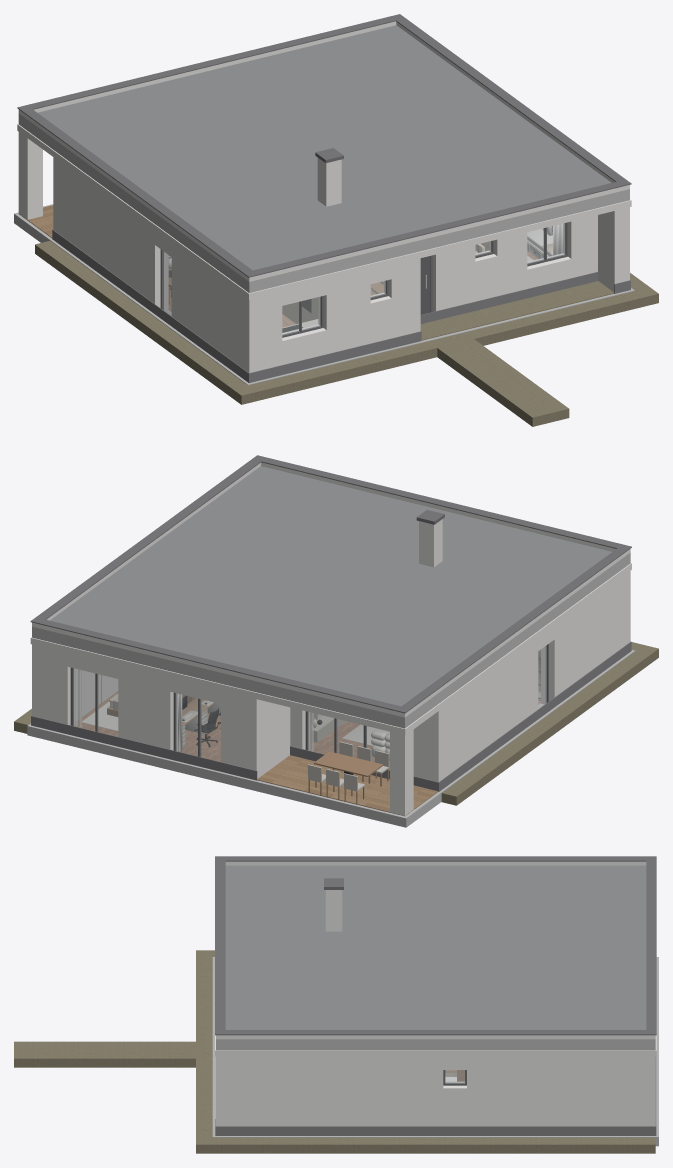
Rendered from bungalov.glb.
The picture shows the model from 3 angles, top to bottom: view 1: azimuth 30°, elevation 25°; view 2: azimuth 150°, elevation 25°; view 3: azimuth 270°, elevation 25°; orthographic projection. The views are drawn at different scales.
Visible parts, largest first — view 1: Roof membrane, Ext W1 end, Roof slab, Path S, Ext W1 0, Path W, Walkway, Ext S1 1, Floor 0.01 Vstup, Ext S1 0, Fascia S, Parapet S coping (+28 smaller); view 2: Roof membrane, Roof slab, Ext W1 end, Foundation slab, Ext W1 0, Path W, Ext N2 1, Floor 0.02 Terasa, Ext N2 0, Fascia N, Parapet N coping, Parapet S coping (+25 smaller); view 3: Roof membrane, Ext E 0, Ext E end, Path E, Roof slab, Walkway, Plinth.003, Path S, Fascia E, Parapet W coping, Parapet E coping, Ext wing end (+7 smaller).
Boxes of the visible parts, left/top/right/bottom form: Roof membrane: left=37, top=25, right=611, bottom=270; Ext W1 end: left=61, top=163, right=168, bottom=310; Roof slab: left=18, top=113, right=629, bottom=292; Path S: left=231, top=292, right=640, bottom=404; Ext W1 0: left=171, top=244, right=241, bottom=366; Path W: left=35, top=241, right=245, bottom=396; Walkway: left=437, top=339, right=569, bottom=426; Ext S1 1: left=318, top=270, right=370, bottom=353; Floor 0.01 Vstup: left=420, top=281, right=613, bottom=340; Ext S1 0: left=241, top=292, right=282, bottom=372; Fascia S: left=243, top=199, right=631, bottom=299; Parapet S coping: left=243, top=179, right=631, bottom=277; Roof membrane: left=50, top=466, right=611, bottom=706; Roof slab: left=32, top=552, right=630, bottom=728; Ext W1 end: left=446, top=638, right=538, bottom=776; Foundation slab: left=27, top=650, right=634, bottom=827; Ext W1 0: left=541, top=576, right=622, bottom=704; Path W: left=441, top=652, right=648, bottom=805; Ext N2 1: left=118, top=665, right=177, bottom=751; Floor 0.02 Terasa: left=257, top=755, right=438, bottom=815; Ext N2 0: left=221, top=690, right=264, bottom=778; Fascia N: left=30, top=637, right=410, bottom=735; Parapet N coping: left=30, top=618, right=410, bottom=713; Parapet S coping: left=252, top=455, right=631, bottom=550; Roof membrane: left=225, top=865, right=646, bottom=1029; Ext E 0: left=248, top=1056, right=443, bottom=1126; Ext E end: left=467, top=1056, right=655, bottom=1126; Path E: left=196, top=1136, right=655, bottom=1153; Roof slab: left=216, top=1039, right=655, bottom=1050; Walkway: left=14, top=1041, right=195, bottom=1067; Plinth.003: left=215, top=1126, right=656, bottom=1135; Path S: left=196, top=950, right=214, bottom=1136; Fascia E: left=226, top=1050, right=645, bottom=1056; Parapet W coping: left=223, top=856, right=648, bottom=861; Parapet E coping: left=223, top=1030, right=647, bottom=1035; Ext wing end: left=216, top=1056, right=247, bottom=1126.
Size of what is drawn, in the model's own units: 13.65 by 4.96 by 19.15.
65 materials, 16 textured.
